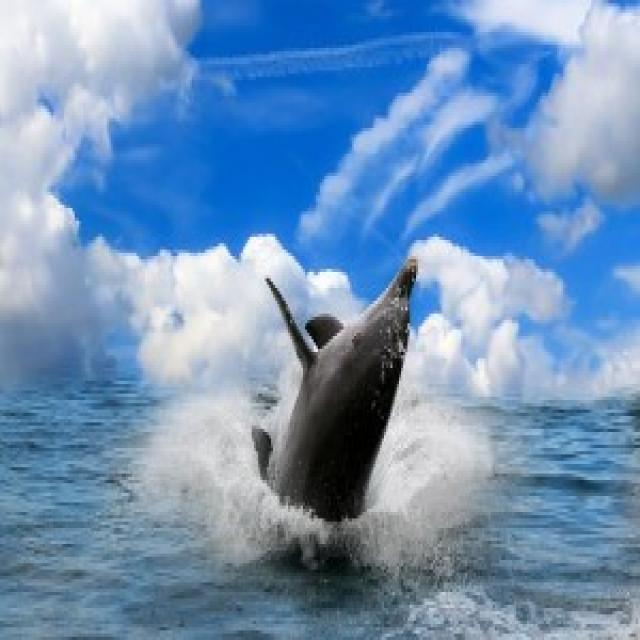Dolphin: (237, 245, 430, 571)
